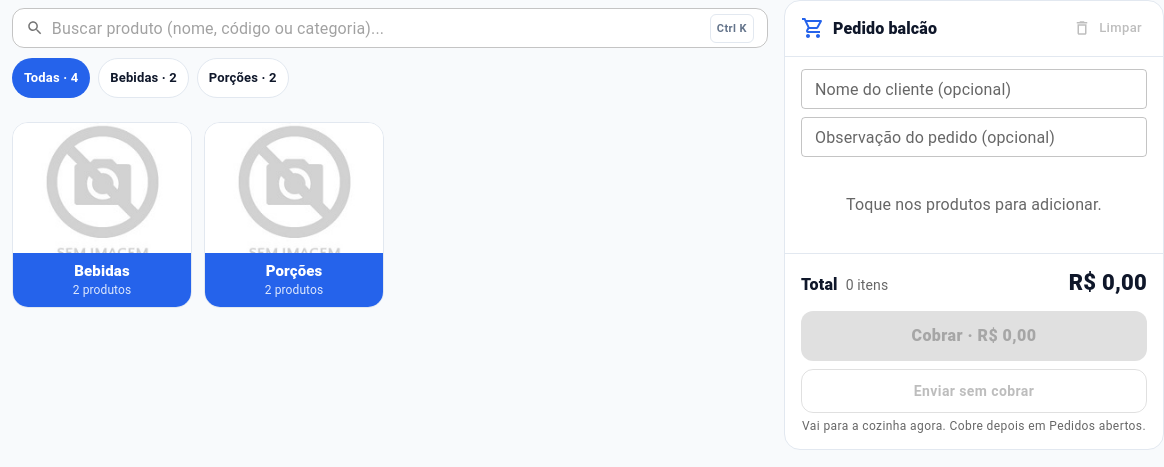
Test: PDV de balcão › mostra primeiro os cards das categorias e abre os produtos ao tocar
Expected: the button with aria-label "Ver produtos de Bebidas" shows "2 produtos", [12, 122, 192, 308]
Click the button with aria-label "Ver produtos de Porções": {"x": 294, "y": 215} [204, 122, 384, 308]
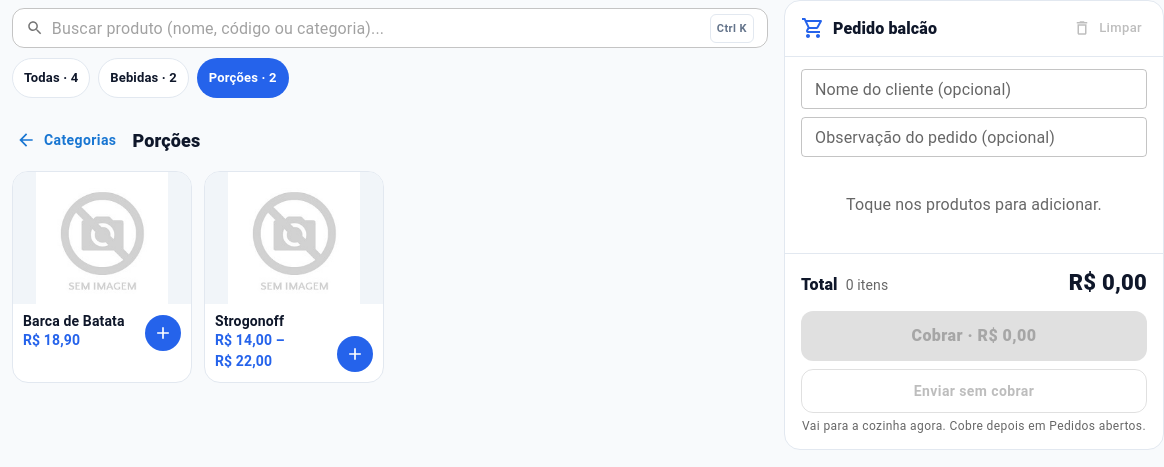
Expected: the heading "Porções" is shown, [132, 127, 200, 154]
Click the button "Categorias": {"x": 68, "y": 140} [12, 122, 124, 158]
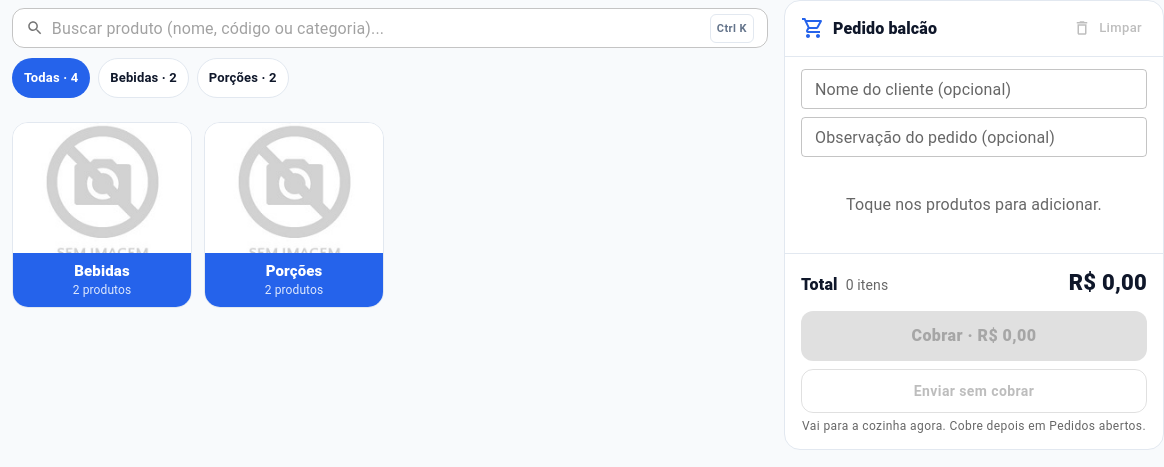
Expected: the button with aria-label "Ver produtos de Bebidas" is shown, [12, 122, 192, 308]
Click the button "Porções · 2": {"x": 243, "y": 78} [197, 58, 289, 98]
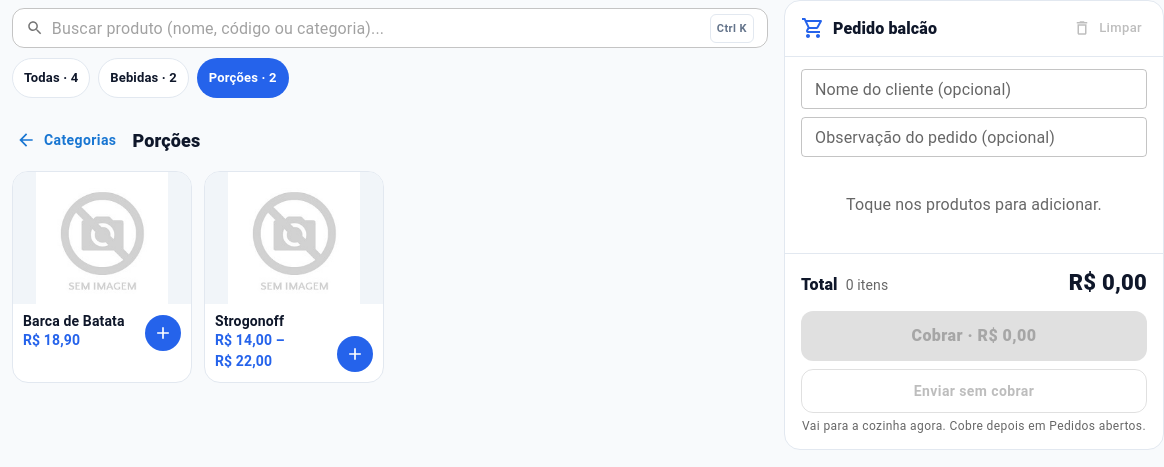
In the search field labelled "Buscar produto": {"x": 377, "y": 28} [52, 8, 702, 48], type "cafe"
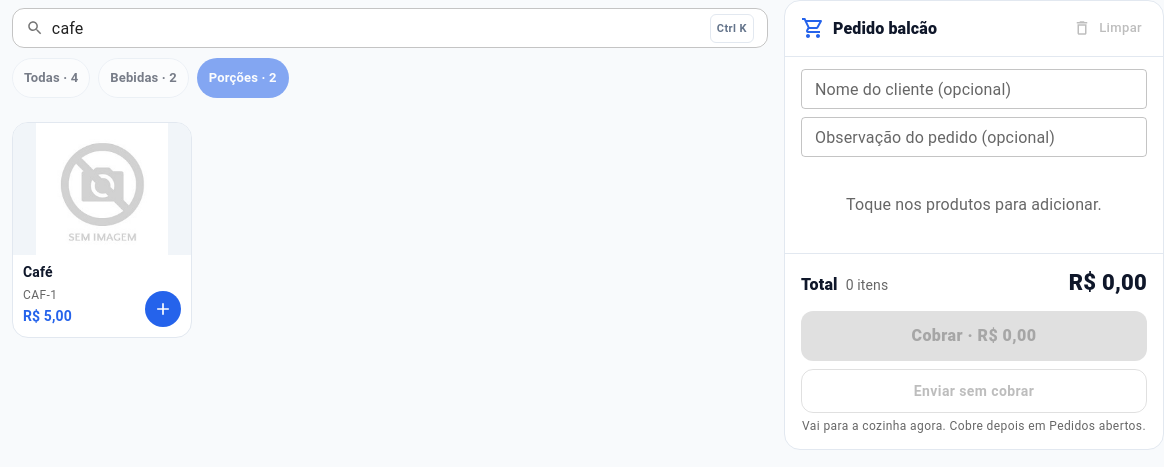
Expected: the button named "Adicionar Café" is shown, [145, 291, 181, 327]
